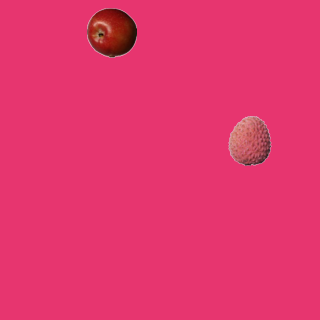Apple Braeburn: (86, 7, 136, 57)
Lychee: (224, 115, 274, 165)
